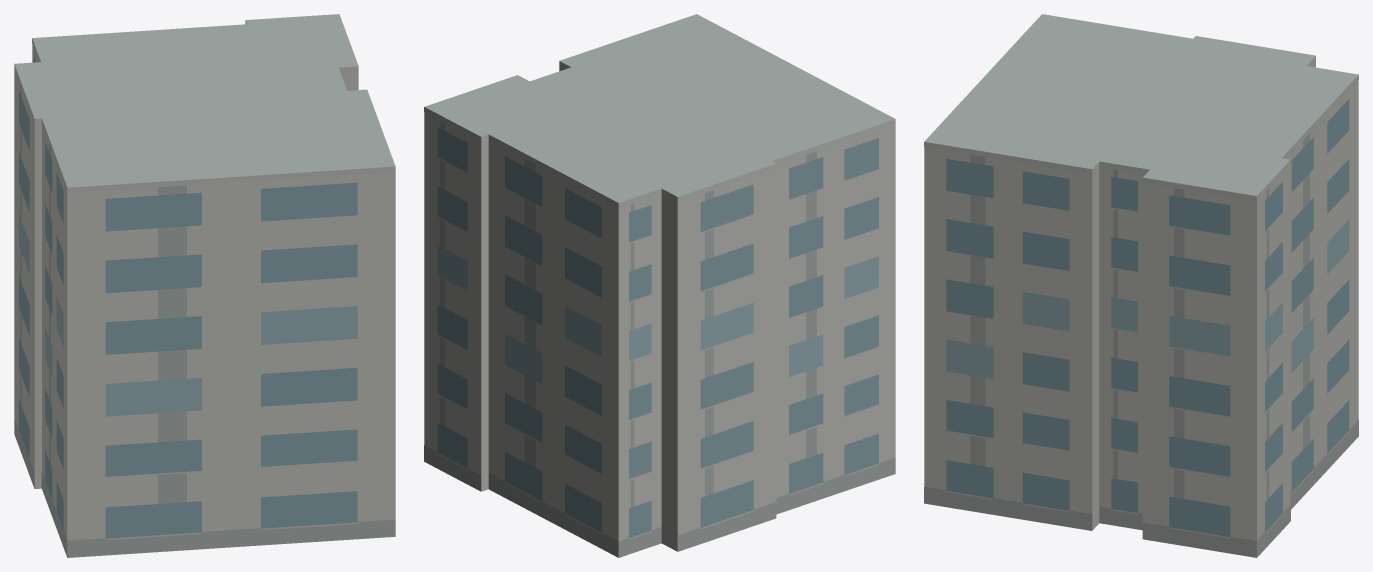
File: survey-upis-32944851.glb
The picture shows the model from 3 angles, left to right: view 1: azimuth 30°, elevation 25°; view 2: azimuth 150°, elevation 25°; view 3: azimuth 270°, elevation 25°; orthographic projection. The views are drawn at different scales.
Parts seen in each view (by area): view 1: survey-upis-32944851.tmp; view 2: survey-upis-32944851.tmp; view 3: survey-upis-32944851.tmp.
Boxes of the visible parts, x1=… form: survey-upis-32944851.tmp: x1=14, y1=14, x2=395, y2=557; survey-upis-32944851.tmp: x1=424, y1=14, x2=895, y2=557; survey-upis-32944851.tmp: x1=924, y1=14, x2=1358, y2=557.
Bounding box in the file's own units: 17.93 × 16.6 × 18.09.
